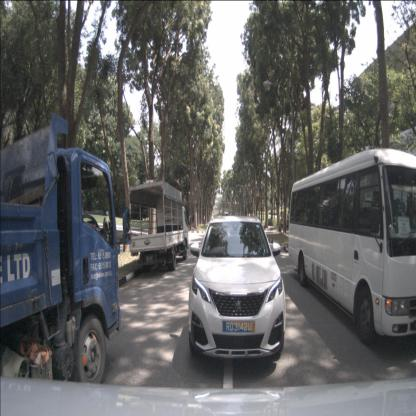human-pedestrian-adult: (287, 216, 289, 233)
vehicle-bus-rigid: (288, 148, 416, 346)
vehicle-car: (188, 216, 286, 361)
vehicle-truck: (0, 113, 120, 394), (128, 180, 189, 273)
